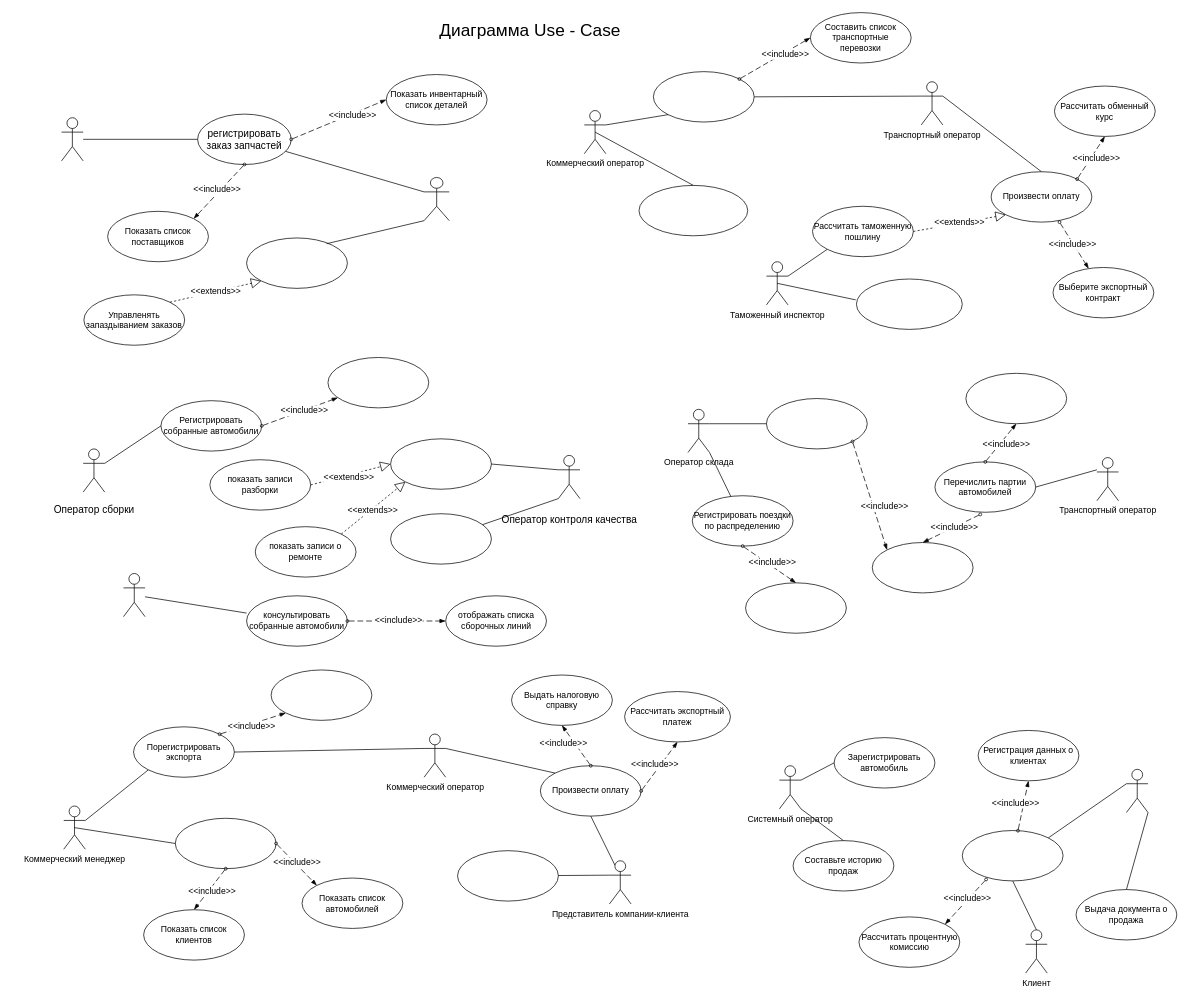
This 1189x1001 diagram has some shape labels left out. The centre of each missing label's shape, as x and y in pixels:
Cоставить список поездки на транспорте: point 703,96
Агент по продажам: point 1137,791
Выбирать способ и условия экспорта: point 321,694
Выдача экспортного регистрационного документа: point 909,303
менеджер отдел поставщиков: point 72,139
оператор отдел поставщиков: point 436,199
Перечислить склады: point 1016,398
Показать историю тестирования КК: point 440,463
Порегистрировать партий: point 816,423
Порегистрировать транспортивные поезки: point 693,210
Прослеживаемость частей на автомобиль: point 378,382
Регистрация продажи: point 1012,855
Регистрировать тестов контроля качества: point 440,538
Создать экспортной кампании: point 225,843
Составить список автомобили: point 922,567
Составить список дилерских центров: point 795,607
Супервайзер по производству и сборке: point 134,595
Уведомить запрос на экспорт: point 507,875
Управленять сделанными заказами: point 296,262
